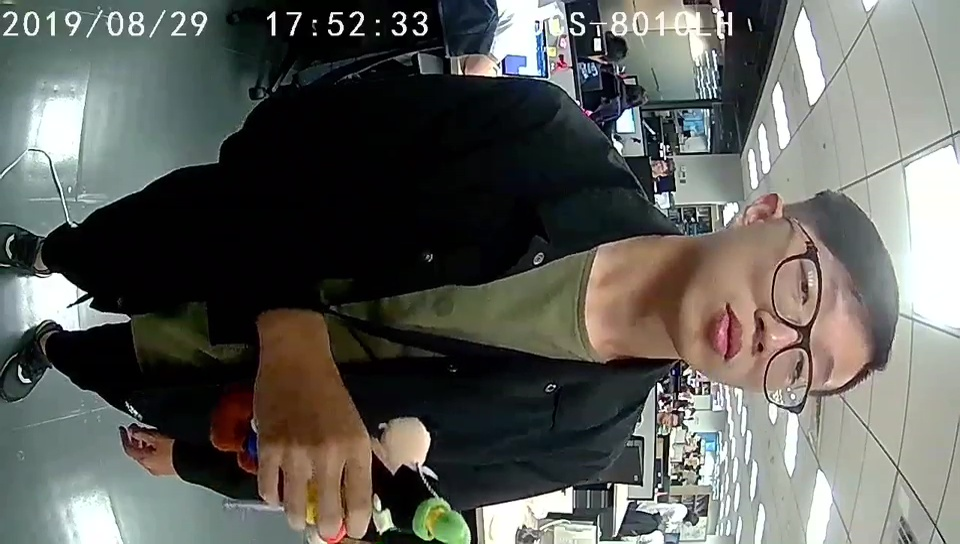goofy: (211, 388, 470, 544)
